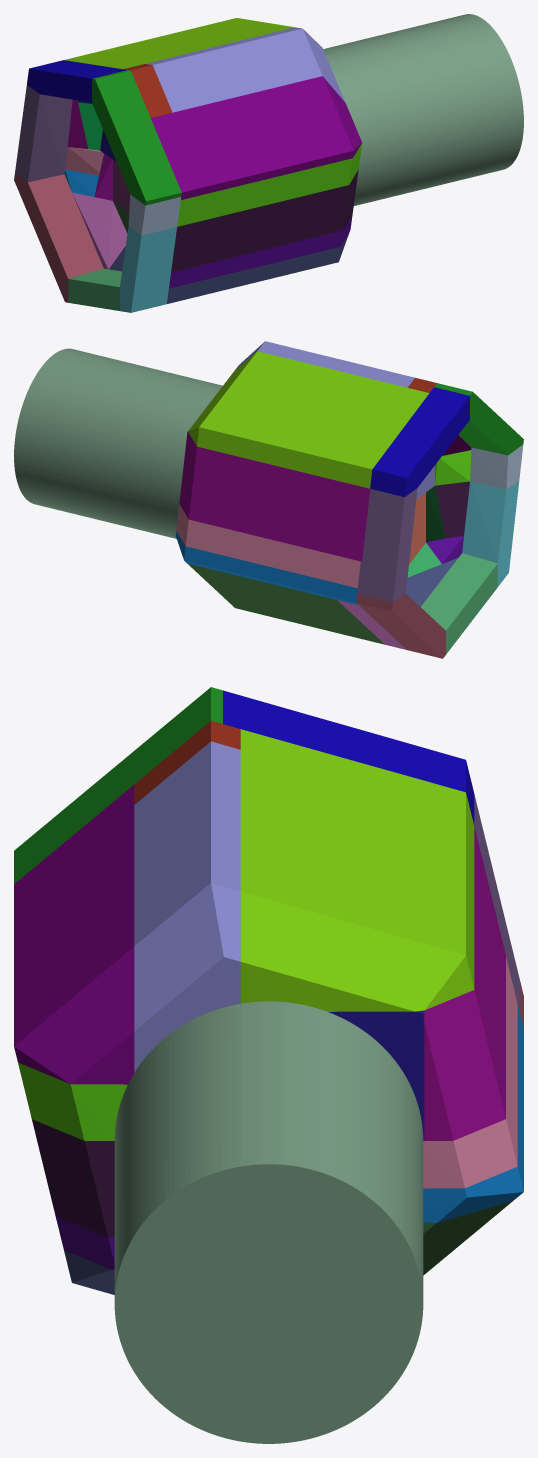
File: 3_canonical.obj
3 views of the same model, one above another, from view 1: azimuth 30°, elevation 25°; view 2: azimuth 150°, elevation 25°; view 3: azimuth 270°, elevation 25° (orthographic). The views are drawn at different scales.
Visible parts, largest first — view 1: geometry_0, geometry_11, geometry_12, geometry_26, geometry_8, geometry_13, geometry_17, geometry_4, geometry_1, geometry_2, geometry_16, geometry_27 (+11 smaller); view 2: geometry_0, geometry_4, geometry_14, geometry_5, geometry_24, geometry_1, geometry_19, geometry_3, geometry_2, geometry_13, geometry_29, geometry_8 (+10 smaller); view 3: geometry_0, geometry_4, geometry_11, geometry_12, geometry_14, geometry_5, geometry_8, geometry_24, geometry_26, geometry_17, geometry_29, geometry_20 (+5 smaller).
Boxes of the visible parts, x1,y1,x2,y2 form: geometry_0: [323, 14, 523, 205]; geometry_11: [150, 76, 361, 199]; geometry_12: [145, 27, 345, 112]; geometry_26: [171, 170, 358, 272]; geometry_8: [92, 70, 181, 205]; geometry_13: [14, 173, 103, 302]; geometry_17: [177, 143, 361, 226]; geometry_4: [64, 18, 294, 69]; geometry_1: [15, 85, 72, 182]; geometry_2: [120, 226, 176, 312]; geometry_16: [109, 234, 348, 303]; geometry_27: [169, 215, 352, 288]; geometry_0: [14, 348, 222, 538]; geometry_4: [188, 351, 429, 488]; geometry_14: [179, 432, 370, 561]; geometry_5: [370, 387, 469, 497]; geometry_24: [176, 504, 360, 587]; geometry_1: [357, 488, 417, 602]; geometry_19: [187, 563, 384, 644]; geometry_3: [421, 553, 497, 654]; geometry_2: [462, 480, 519, 586]; geometry_13: [356, 593, 445, 658]; geometry_29: [175, 531, 358, 605]; geometry_8: [434, 383, 523, 455]; geometry_0: [114, 1001, 423, 1443]; geometry_4: [240, 729, 474, 1011]; geometry_11: [14, 785, 134, 1084]; geometry_12: [134, 741, 240, 1072]; geometry_14: [424, 827, 505, 1140]; geometry_5: [223, 690, 474, 825]; geometry_8: [14, 687, 222, 883]; geometry_24: [423, 957, 517, 1188]; geometry_26: [32, 1119, 114, 1237]; geometry_17: [18, 1062, 127, 1140]; geometry_29: [423, 1005, 523, 1222]; geometry_20: [328, 1010, 424, 1140].
Size of the model in its own units: 0.035 by 0.0203 by 0.0198.
